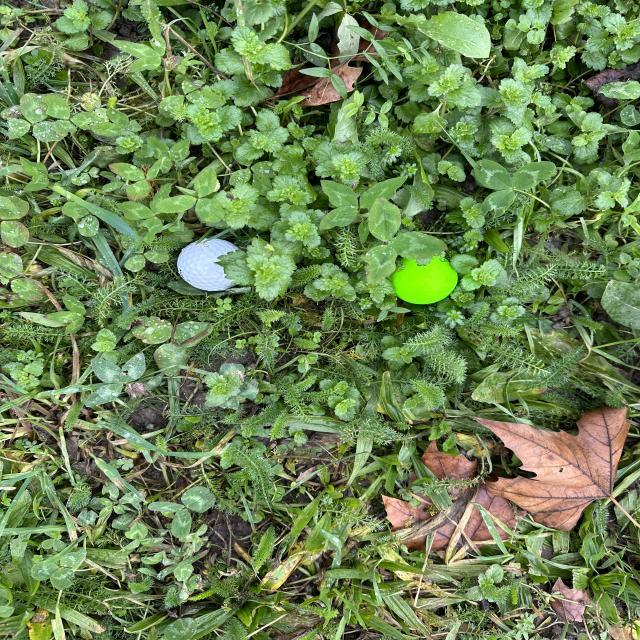golfball: (178, 236, 243, 292), (390, 254, 460, 306)
